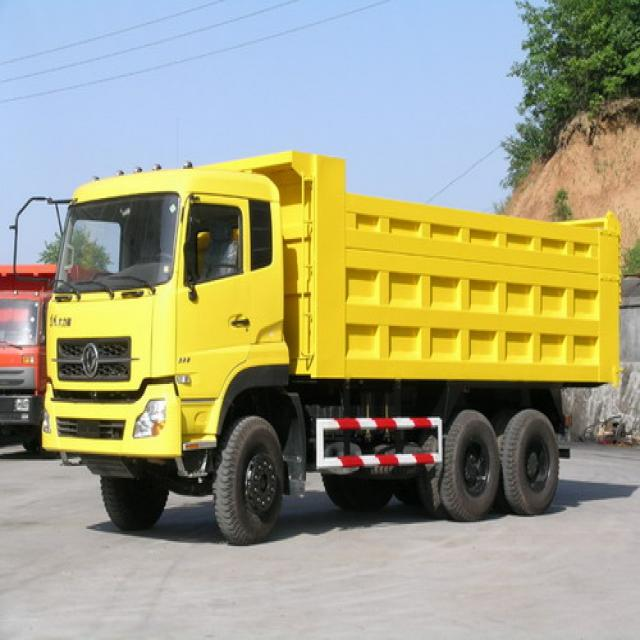truck: (10, 143, 621, 540)
